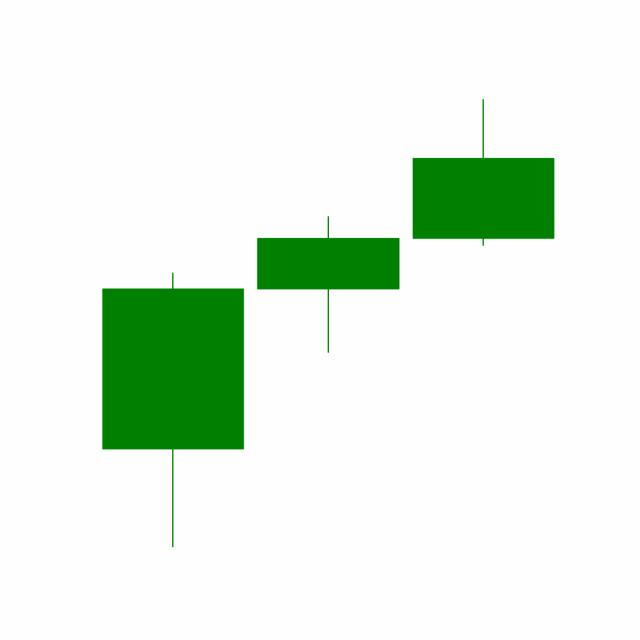Hanging Man: (249, 214, 406, 354)
